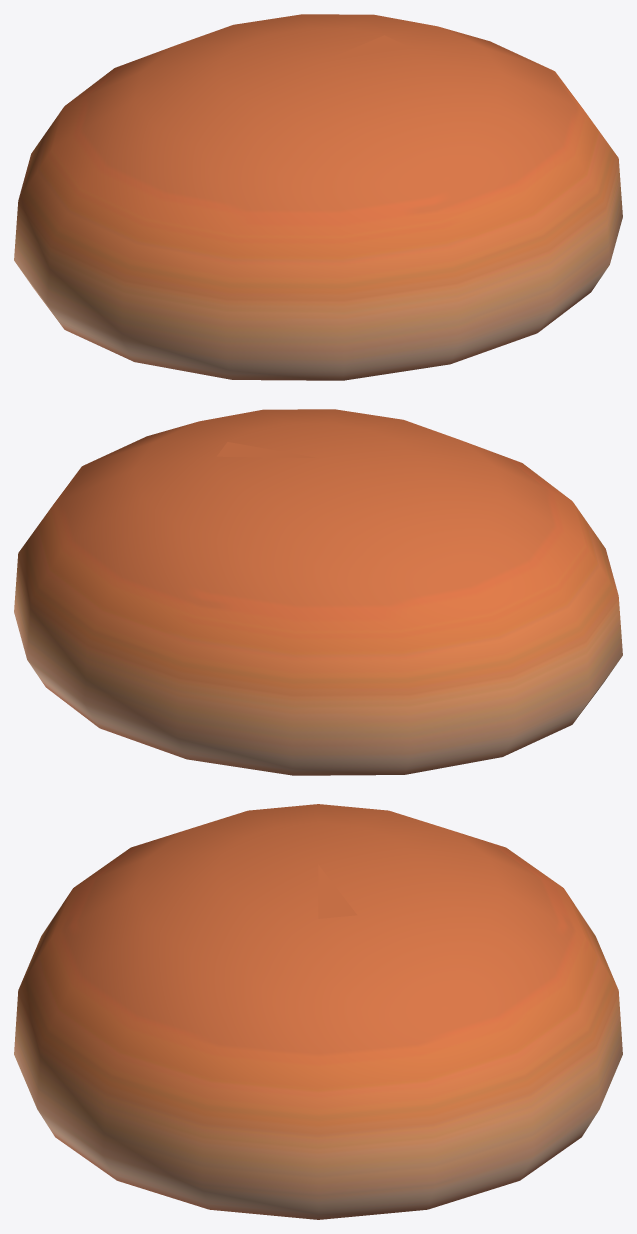
The model's file is topBun.obj.
3 views of the same model, one above another, from view 1: azimuth 30°, elevation 25°; view 2: azimuth 150°, elevation 25°; view 3: azimuth 270°, elevation 25° (orthographic). The views are drawn at different scales.
Parts seen in each view (by area): view 1: hamburger:mesh0033; view 2: hamburger:mesh0033; view 3: hamburger:mesh0033.
Part boxes in pixels (x1,y1,x2,y2): hamburger:mesh0033: (14,14,622,380); hamburger:mesh0033: (14,409,622,775); hamburger:mesh0033: (14,804,622,1219).
Bounding box in the file's own units: 5.38 × 1.94 × 4.84.
1 material, 1 textured.
